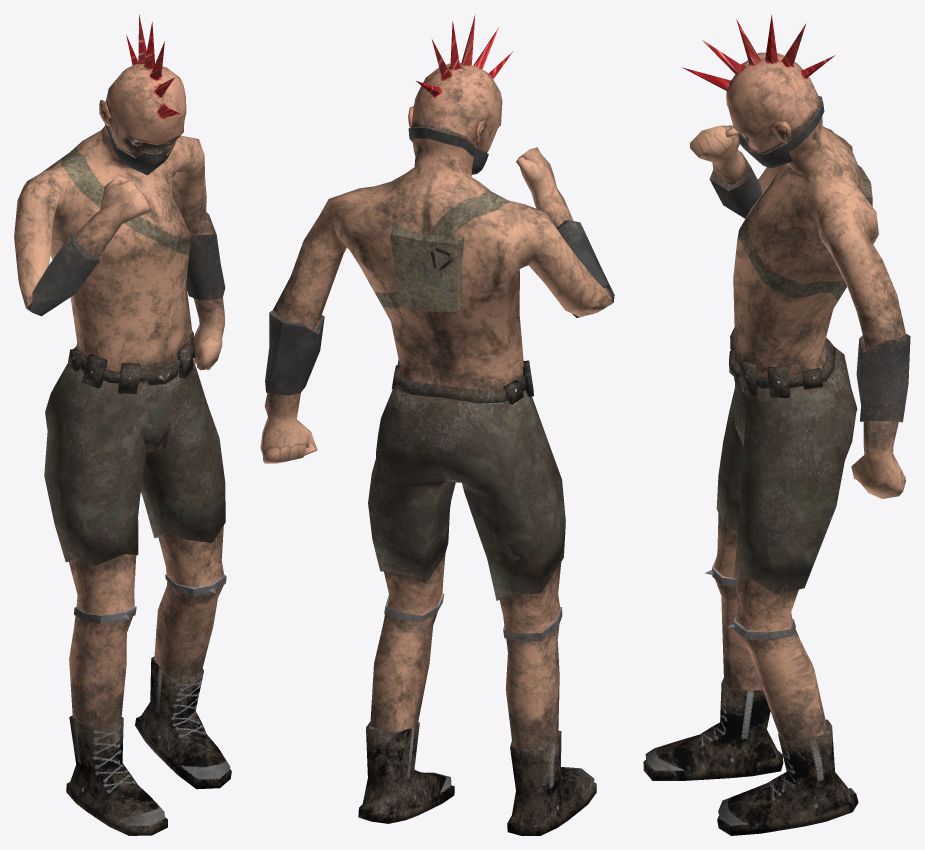
File: Anim_perder_1_npc2.0047.obj
The picture shows the model from 3 angles, left to right: view 1: azimuth 30°, elevation 25°; view 2: azimuth 150°, elevation 25°; view 3: azimuth 270°, elevation 25°; orthographic projection. The views are drawn at different scales.
Visible parts, largest first — view 1: polySurface1; view 2: polySurface1; view 3: polySurface1.
Part boxes in pixels (x1,y1,x2,y2): polySurface1: (14,14,231,835); polySurface1: (260,14,614,835); polySurface1: (643,15,910,835).
Size of the model in its own units: 3.61 by 9.98 by 3.05.
2 materials, 2 textured.
